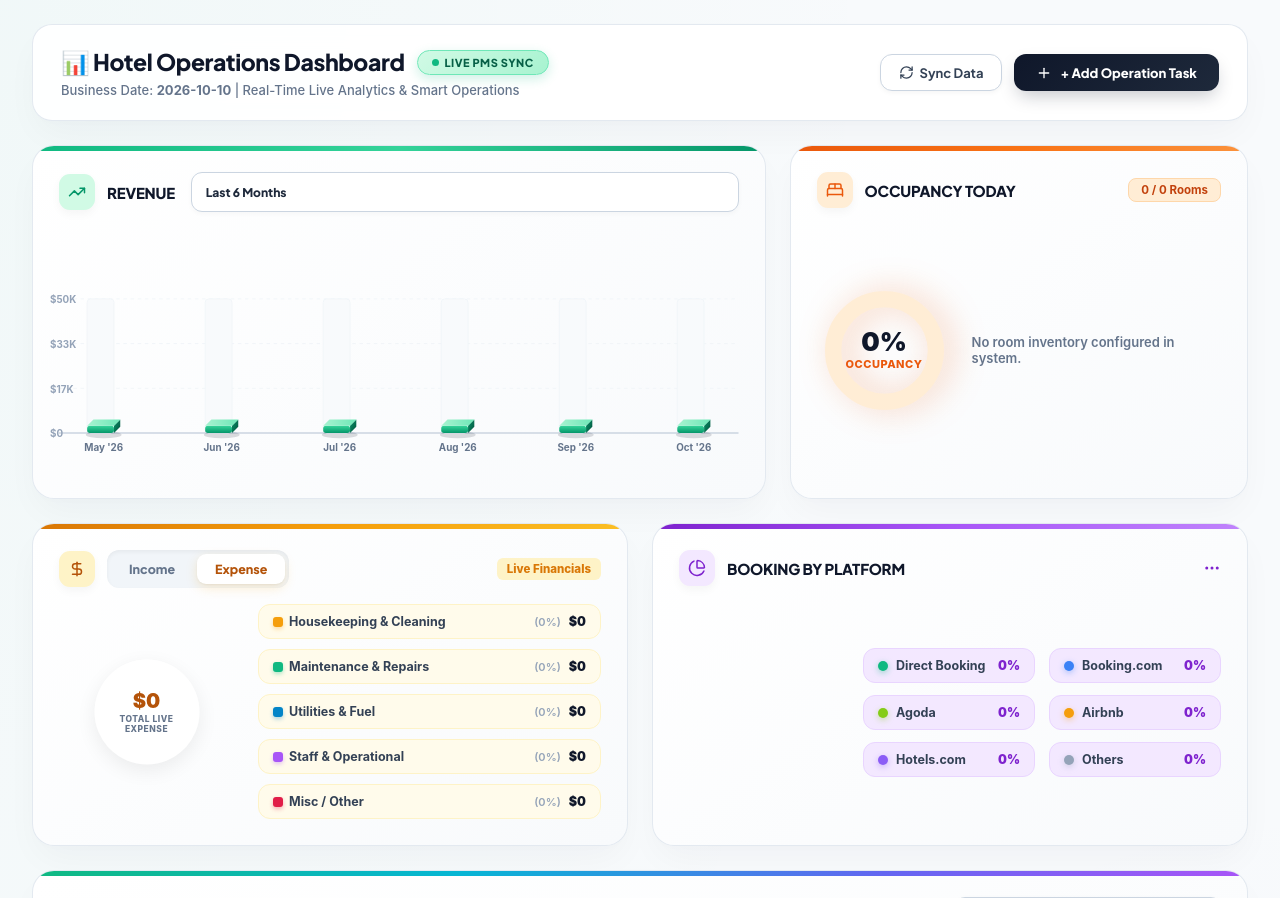
Test: Dashboard Analytics Self-Test Suite › 2. Toggles Financial Breakdown tabs between Expense and Income
Check: the text "TOTAL LIVE EXPENSE" is shown, box [120,714,173,733]
Click the button "Income".
click(152, 569)  # box [111,554,193,584]
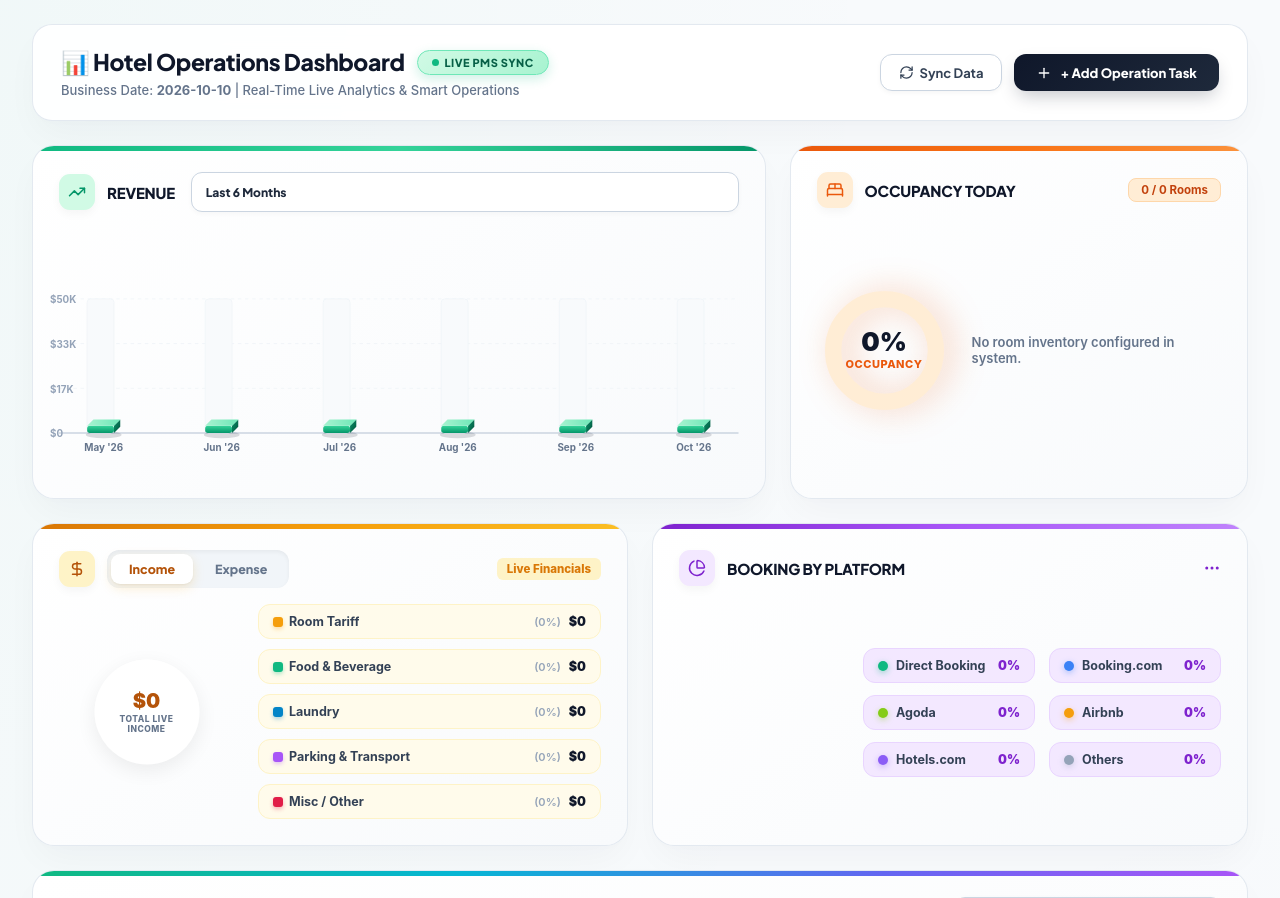
Check: the text "TOTAL LIVE INCOME" is shown, box [120,714,173,733]
Check: the text "Room Tariff" is shown, box [289,614,359,629]
Click the button "Expense".
click(241, 569)  # box [197,554,285,584]
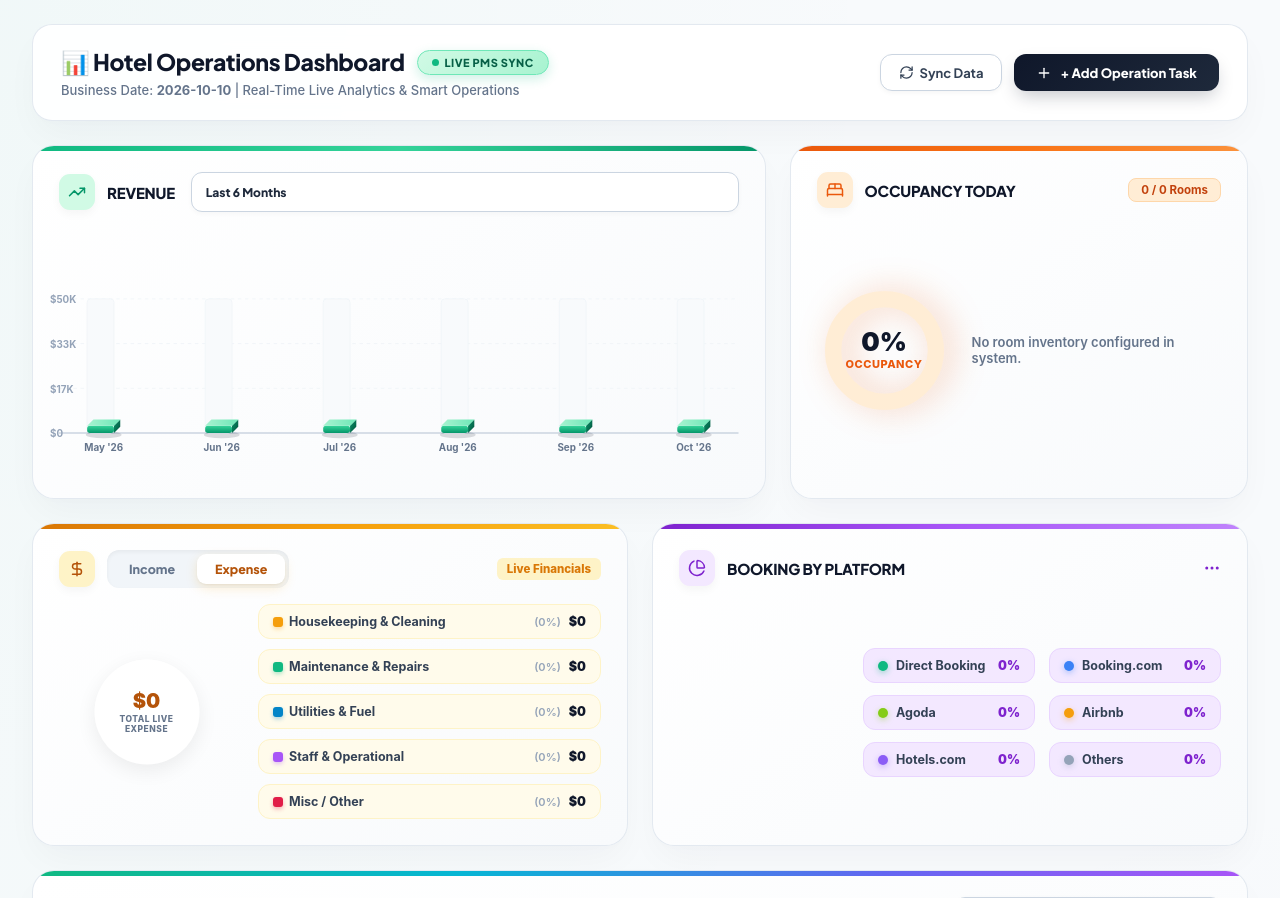
Check: the text "TOTAL LIVE EXPENSE" is shown, box [120,714,173,733]
Check: the text "Housekeeping & Cleaning" is shown, box [289,614,446,629]
